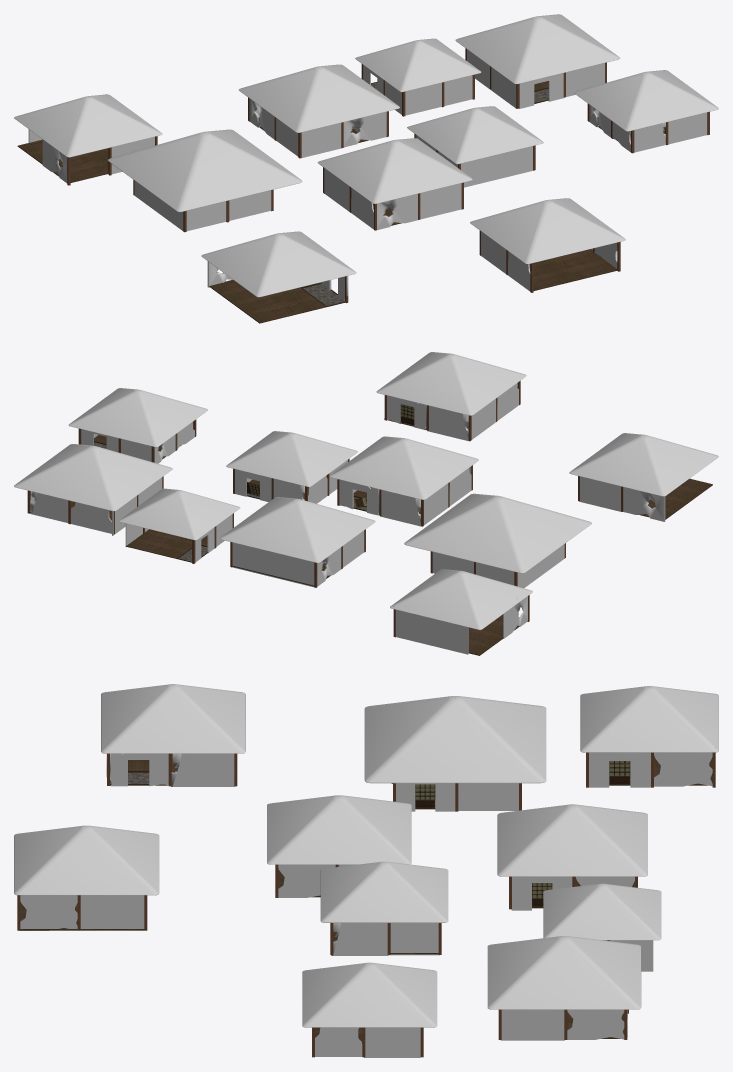
File: Pueblo_casas.fbx
The picture shows the model from 3 angles, top to bottom: view 1: azimuth 30°, elevation 25°; view 2: azimuth 150°, elevation 25°; view 3: azimuth 270°, elevation 25°; orthographic projection. The views are drawn at different scales.
Visible parts, largest first — view 1: Techo.001, Techo.007, Techo.009, Techo.004, Techo.005, Techo.002, Techo.010, Techo.006, Techo.003, Techo.008, Suelo.010, Suelo.008 (+24 smaller); view 2: Techo.001, Techo.007, Techo.009, Techo.004, Techo.005, Techo.002, Techo.010, Techo.006, Techo.003, Techo.008, Pared_Sucia_Uno.003, Pared_Sucia_Dos.015 (+23 smaller); view 3: Techo.001, Techo.007, Techo.009, Techo.004, Techo.005, Techo.002, Techo.010, Techo.006, Techo.003, Techo.008, Pared_Sucia_Dos.027, Pared_Rota_Dos.008 (+15 smaller).
Boxes of the visible parts, box(x1,y1,x2,y2) form: Techo.001: box(108, 129, 302, 212); Techo.007: box(455, 14, 620, 84); Techo.009: box(239, 64, 399, 132); Techo.004: box(470, 198, 625, 264); Techo.005: box(201, 231, 356, 297); Techo.002: box(317, 138, 472, 203); Techo.010: box(14, 94, 162, 157); Techo.006: box(574, 70, 718, 131); Techo.003: box(407, 106, 543, 164); Techo.008: box(355, 38, 481, 92); Suelo.010: box(209, 280, 345, 323); Suelo.008: box(529, 249, 617, 290); Techo.001: box(404, 493, 591, 573); Techo.007: box(14, 444, 172, 511); Techo.009: box(220, 497, 375, 562); Techo.004: box(376, 352, 526, 415); Techo.005: box(569, 433, 718, 496); Techo.002: box(329, 436, 478, 499); Techo.010: box(390, 569, 532, 629); Techo.006: box(68, 388, 207, 447); Techo.003: box(226, 431, 357, 486); Techo.008: box(118, 488, 240, 540); Pared_Sucia_Uno.003: box(232, 542, 314, 587); Pared_Sucia_Dos.015: box(395, 610, 468, 654); Techo.001: box(364, 696, 546, 783); Techo.007: box(487, 936, 641, 1009); Techo.009: box(497, 804, 647, 876); Techo.004: box(14, 825, 159, 895); Techo.005: box(101, 684, 245, 753); Techo.002: box(267, 795, 411, 864); Techo.010: box(580, 686, 718, 752); Techo.006: box(302, 962, 437, 1027); Techo.003: box(320, 861, 448, 922); Techo.008: box(543, 883, 661, 940); Pared_Sucia_Dos.027: box(80, 895, 144, 928); Pared_Rota_Dos.008: box(171, 753, 235, 786).
Size of the model in its own units: 23291 by 2894 by 20908.
